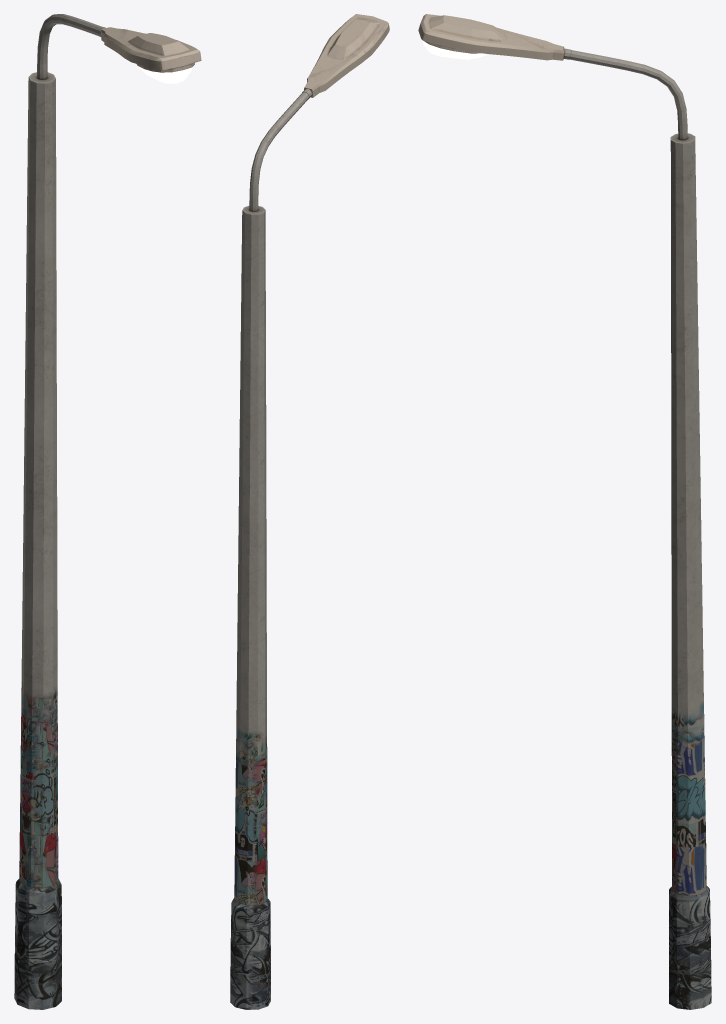
File: City_lantern_FBX.fbx
3 views of the same model, side by side, from view 1: azimuth 30°, elevation 25°; view 2: azimuth 150°, elevation 25°; view 3: azimuth 270°, elevation 25° (orthographic). The views are drawn at different scales.
Parts seen in each view (by area): view 1: City_lantern, Glass; view 2: City_lantern; view 3: City_lantern.
Part boxes in pixels (<box>): City_lantern: <box>14,14,201,1009</box>; Glass: <box>139,66,192,83</box>; City_lantern: <box>230,14,389,1009</box>; City_lantern: <box>418,14,711,1009</box>.
Bounding box in the file's own units: 30 × 610 × 165.
